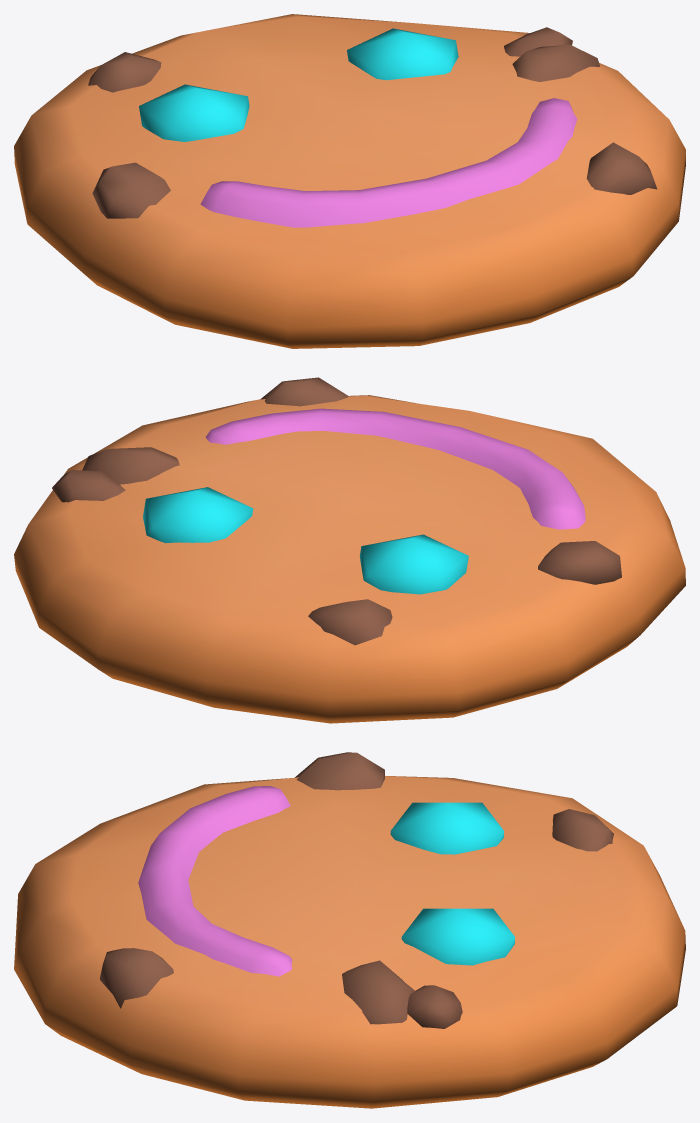
Rendered from Cookie_11.glb.
3 views of the same model, one above another, from view 1: azimuth 30°, elevation 25°; view 2: azimuth 150°, elevation 25°; view 3: azimuth 270°, elevation 25° (orthographic). The views are drawn at different scales.
Visible parts, largest first — view 1: Cookie_11; view 2: Cookie_11; view 3: Cookie_11.
Boxes of the visible parts, x1,y1,x2,y2 form: Cookie_11: (14,14,685,348); Cookie_11: (14,377,685,723); Cookie_11: (14,752,685,1108).
Bounding box in the file's own units: 3.54 × 0.7042 × 3.55.
Materials: 1 (1 with a texture image).
